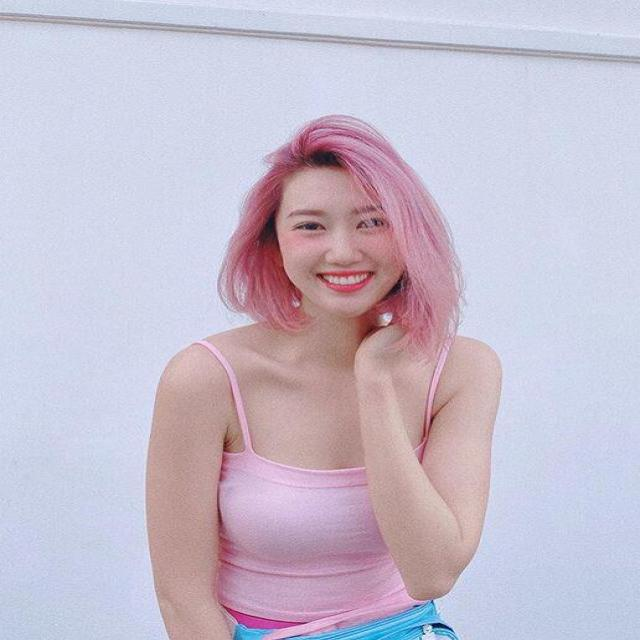Nonhelmet: (206, 103, 446, 332)
